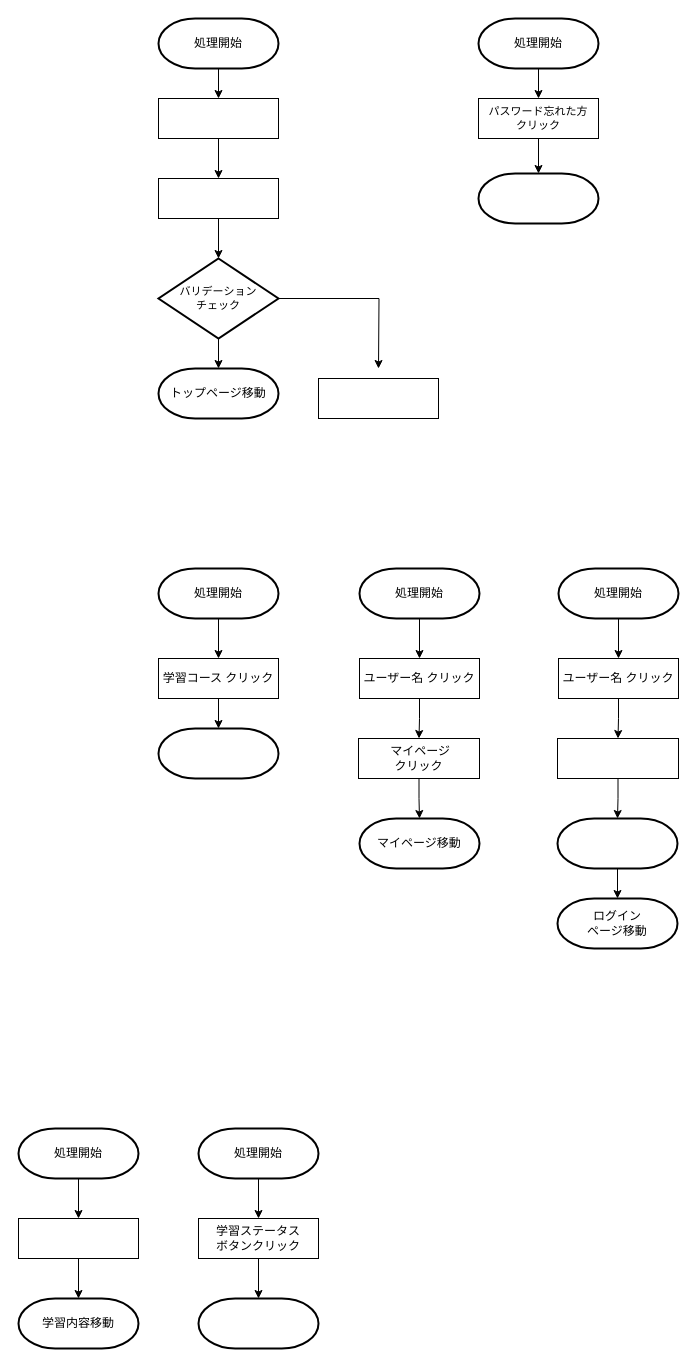
This 696x1366 diagram has some shape labels left out. Each missing label, with the centre of its shape:
Login クリック: [218,198]
エラー出力: [378,398]
カリキュラム クリック: [78,1238]
パスワード再発行 画面へ移動: [538,198]
ログアウト クリック: [617,758]
ログアウト処理: [617,843]
会員情報入力: [218,118]
学習コース トップページ移動: [218,753]
未学習／完了 表示切替: [258,1323]
